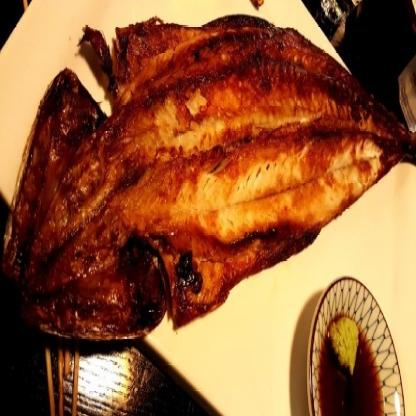Peixe: (8, 0, 416, 348)
